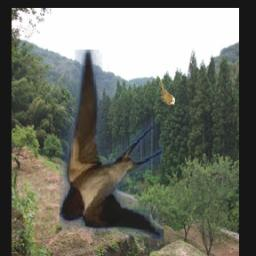Cuckoo: (157, 77, 175, 106)
Swallow: (60, 51, 163, 240)
